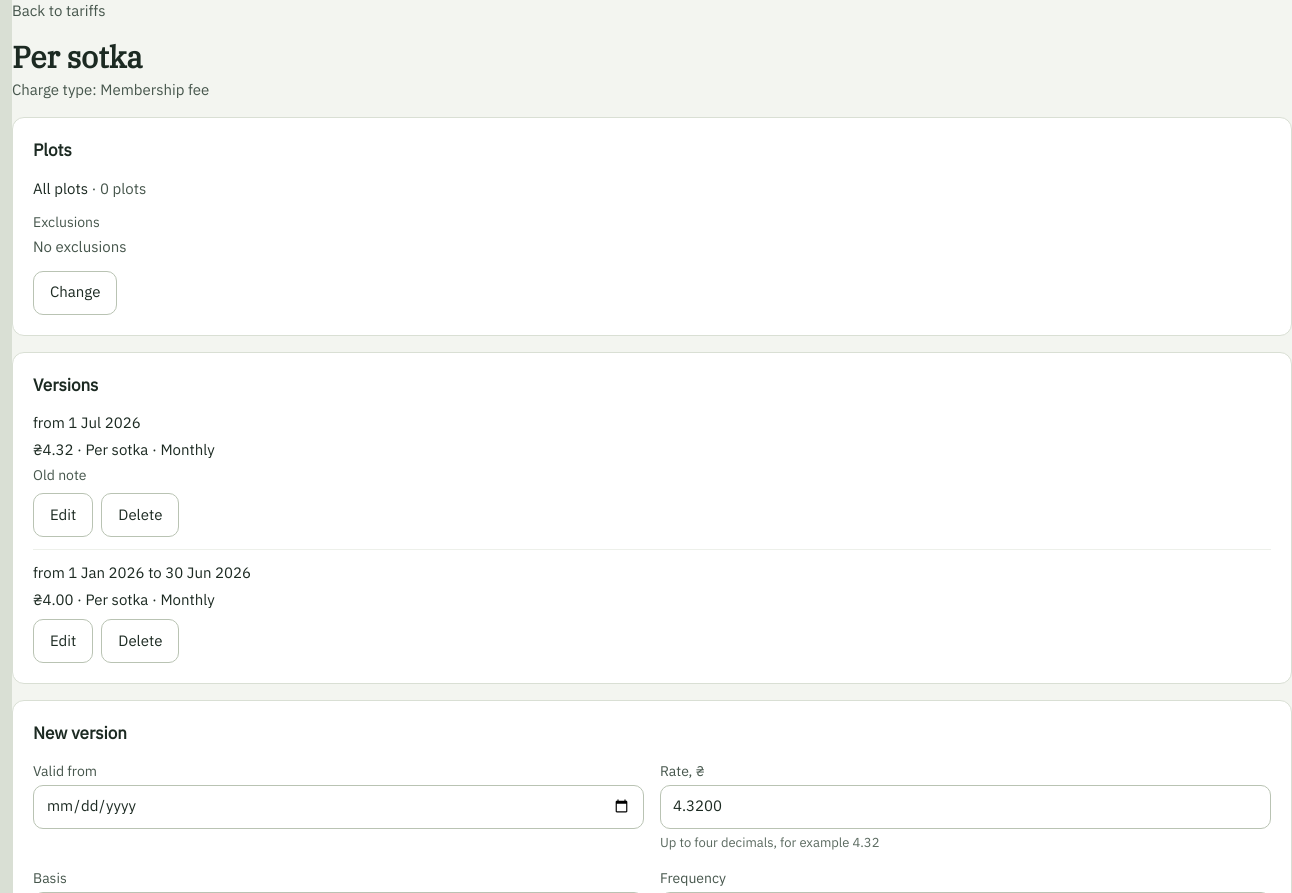
TariffPage: correcting versions through a recalculation › saves a version with an empty plan through the same endpoint, without a reason
The width and height of the screenshot is (1292, 893).
Type "2020-01-01" into the date field labelled "Valid from".
click(338, 806); type("2020-01-01")  # box [33,784,644,828]
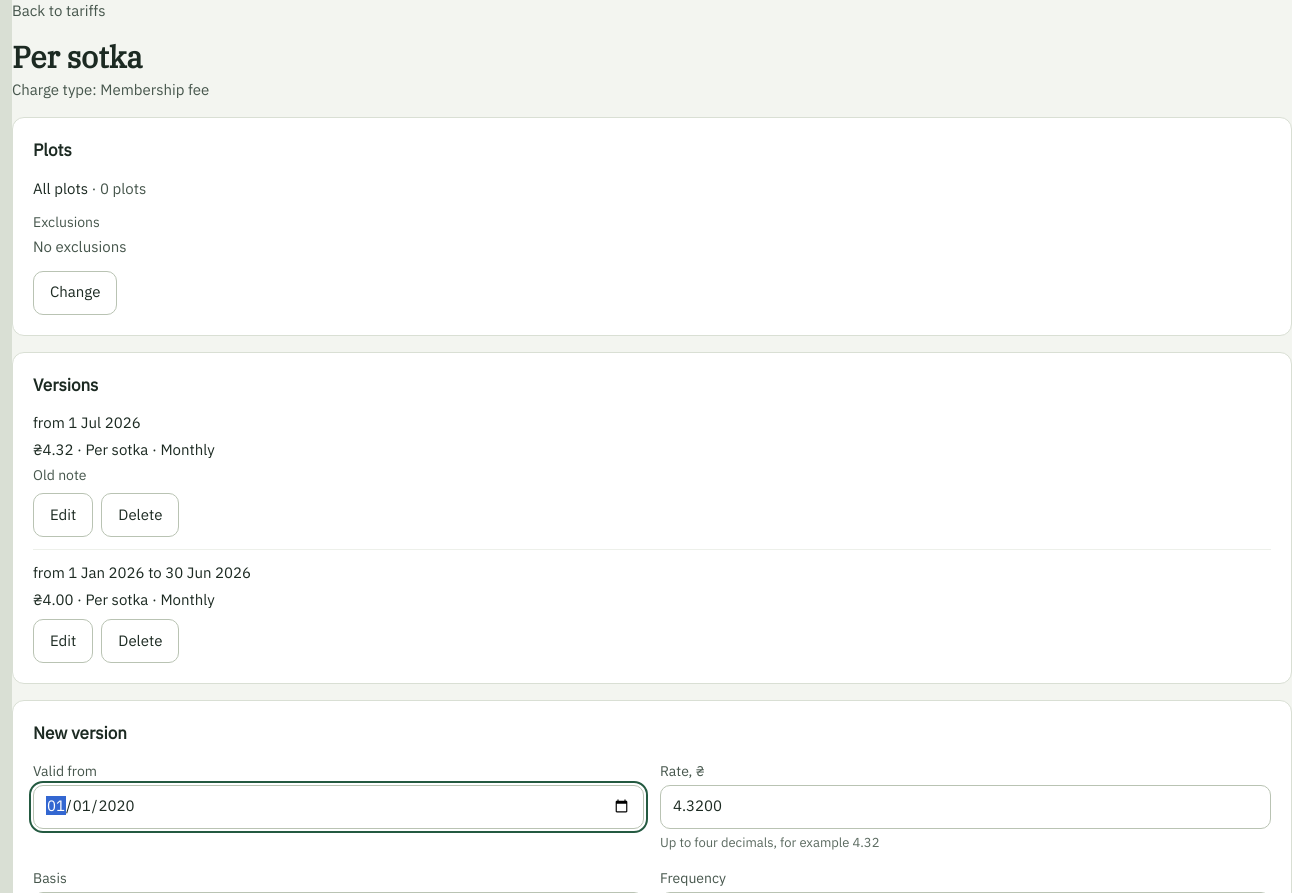
Replace the text in the field labelled "Rate, ₴" with "6" at coordinates (966, 806), box [660,784,1271,828]
(page scrolled)
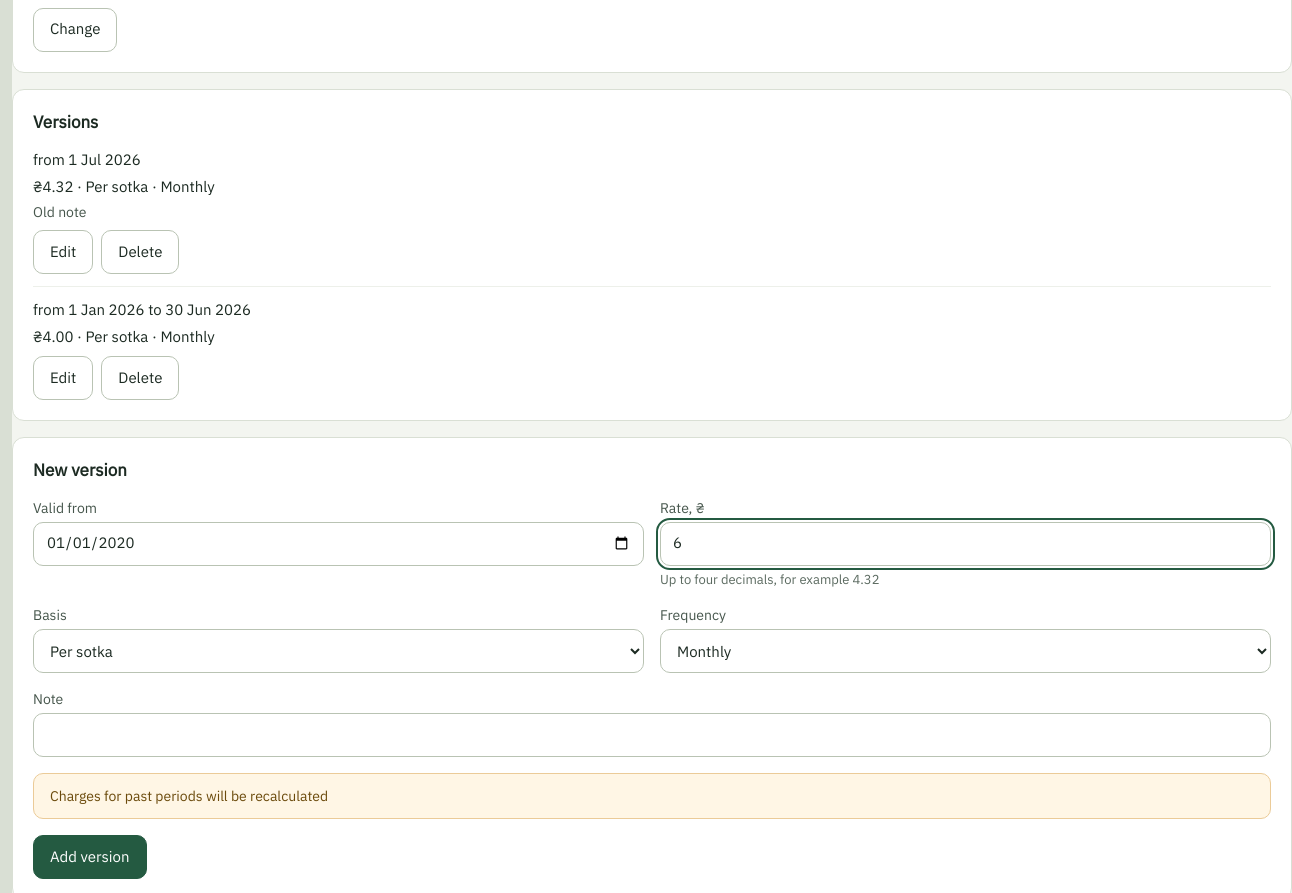
Click the button "Add version".
click(90, 857)  # box [33,835,146,879]
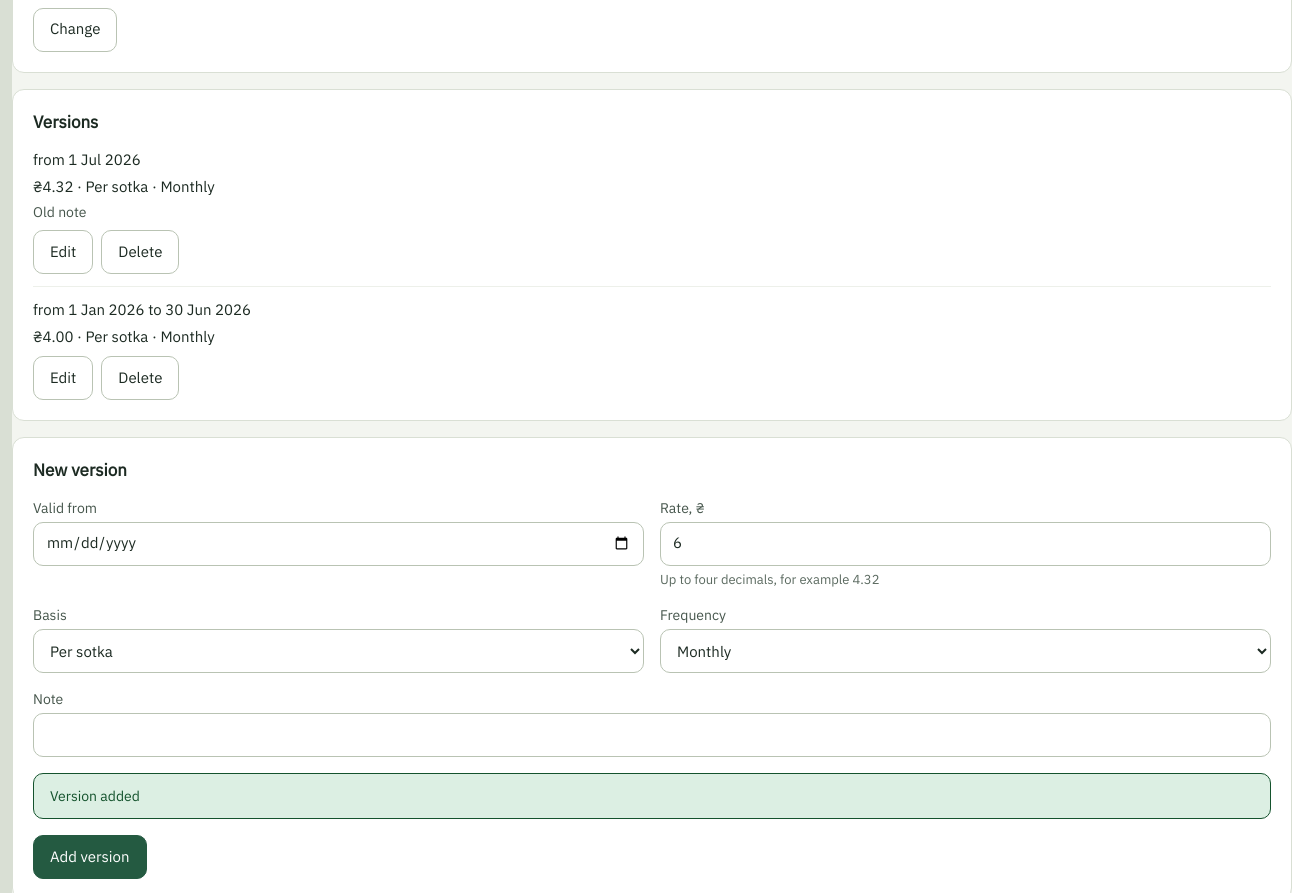
Now the text "Version added" is shown, box [33,773,1271,819]
